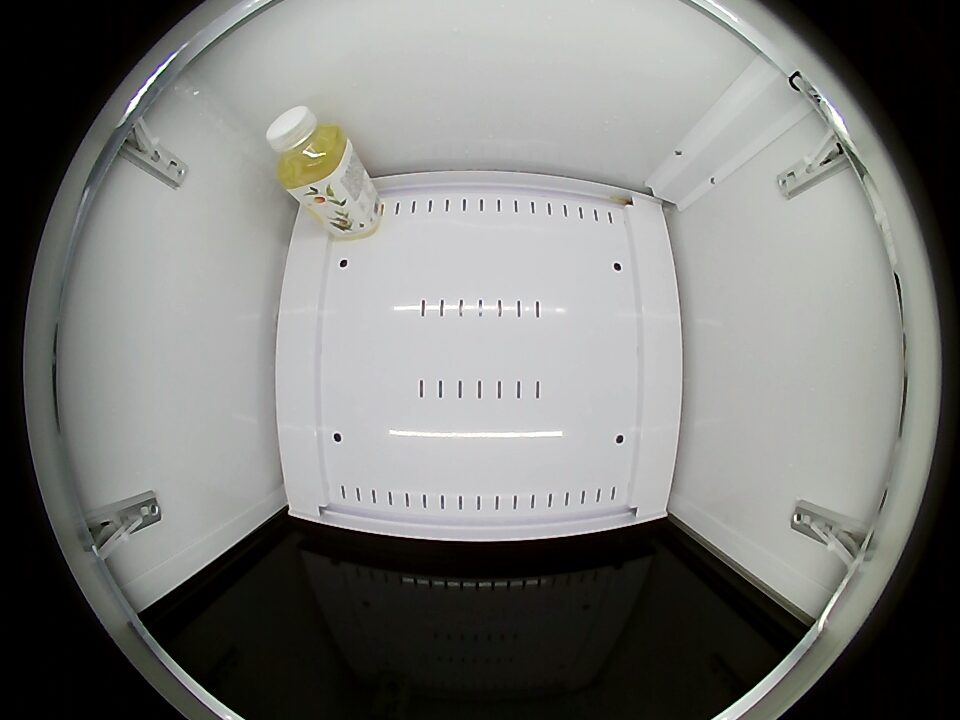chapai2: (267, 106, 350, 191)
